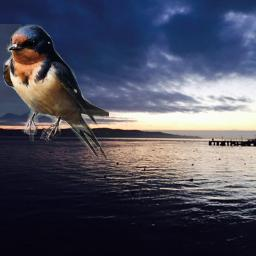Swallow: (0, 24, 109, 162)
